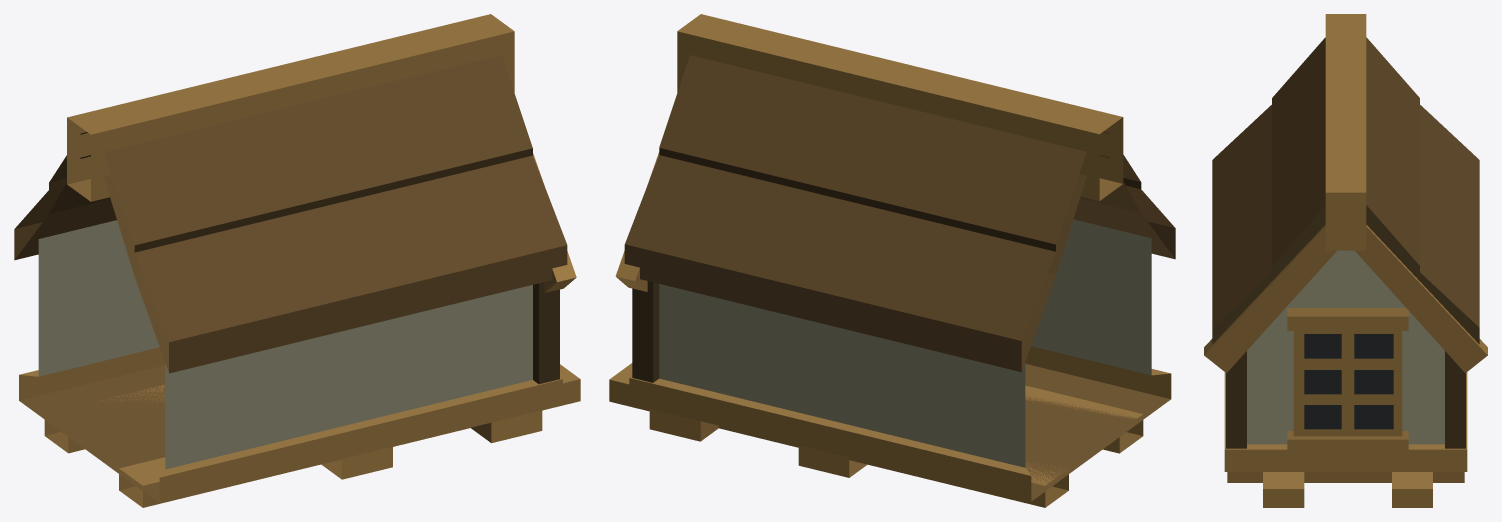
The model's file is SF_Bld_HouseAdd_Window_02.fbx.
The picture shows the model from 3 angles, left to right: view 1: azimuth 30°, elevation 25°; view 2: azimuth 150°, elevation 25°; view 3: azimuth 270°, elevation 25°; orthographic projection. The views are drawn at different scales.
Parts seen in each view (by area): view 1: SF_Bld_HouseAdd_Window_02; view 2: SF_Bld_HouseAdd_Window_02; view 3: SF_Bld_HouseAdd_Window_02.
Boxes of the visible parts, left/top/right/bottom form: SF_Bld_HouseAdd_Window_02: left=14, top=14, right=580, bottom=507; SF_Bld_HouseAdd_Window_02: left=609, top=14, right=1175, bottom=507; SF_Bld_HouseAdd_Window_02: left=1204, top=14, right=1487, bottom=507.
Bounding box in the file's own units: 3.9 × 2.88 × 2.45.
